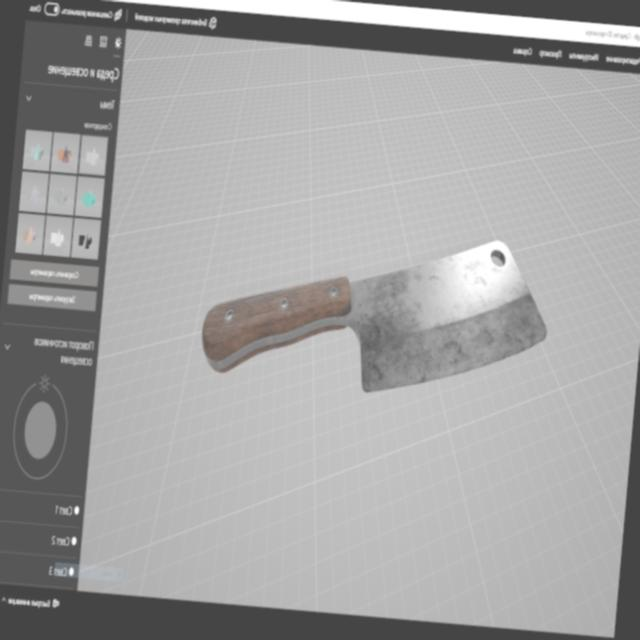cleaver: (190, 206, 556, 426)
